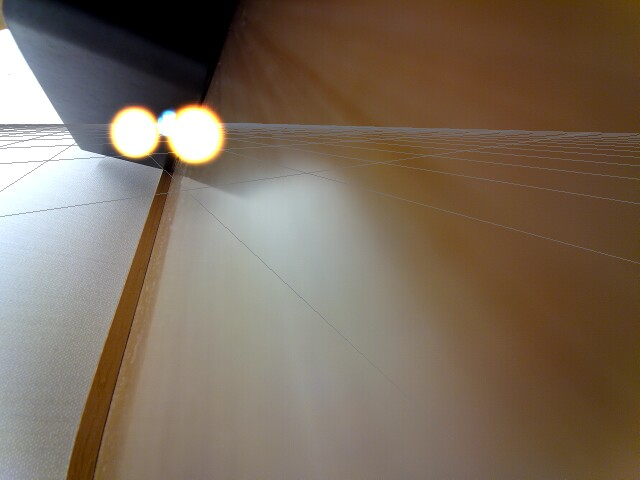firebig: (166, 104, 229, 167)
